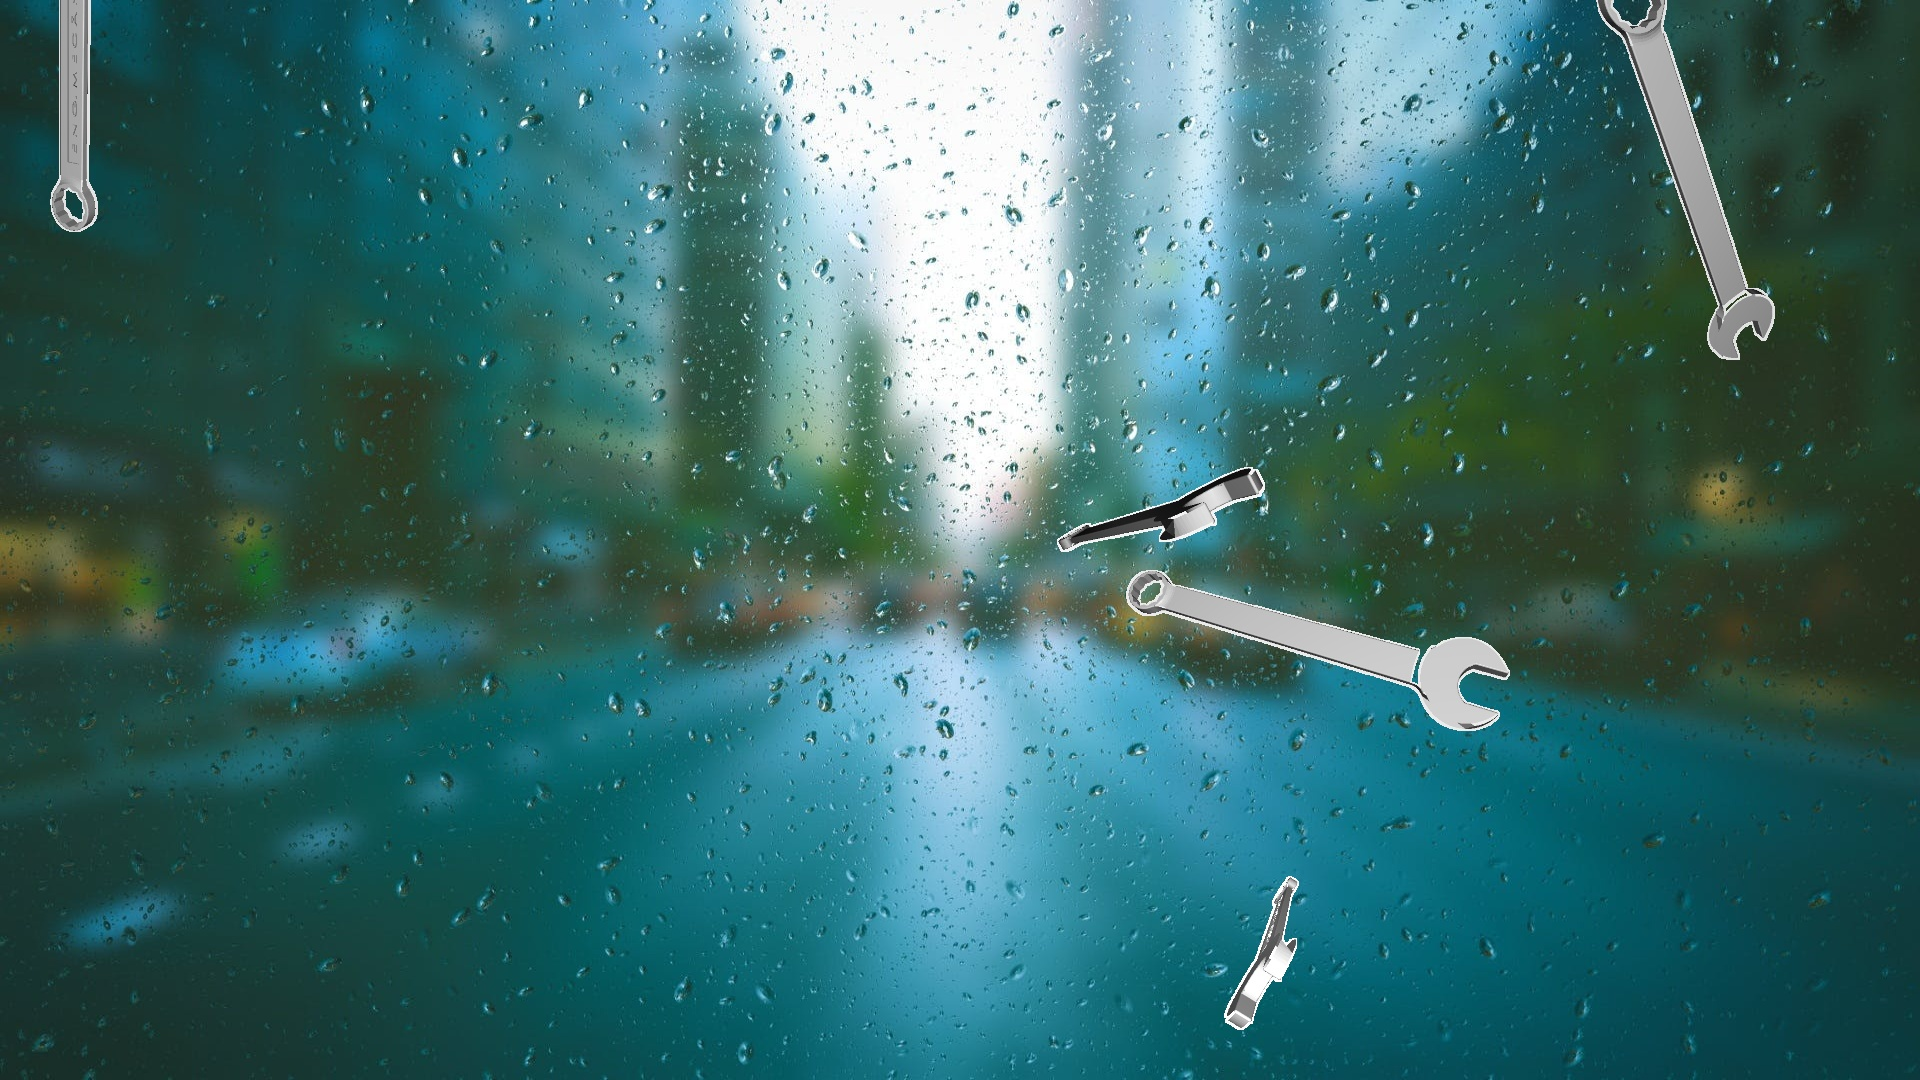Mixed Key: (1596, 0, 1774, 359), (1126, 570, 1509, 731), (1058, 467, 1265, 551), (1224, 876, 1298, 1029), (50, 0, 98, 231)
